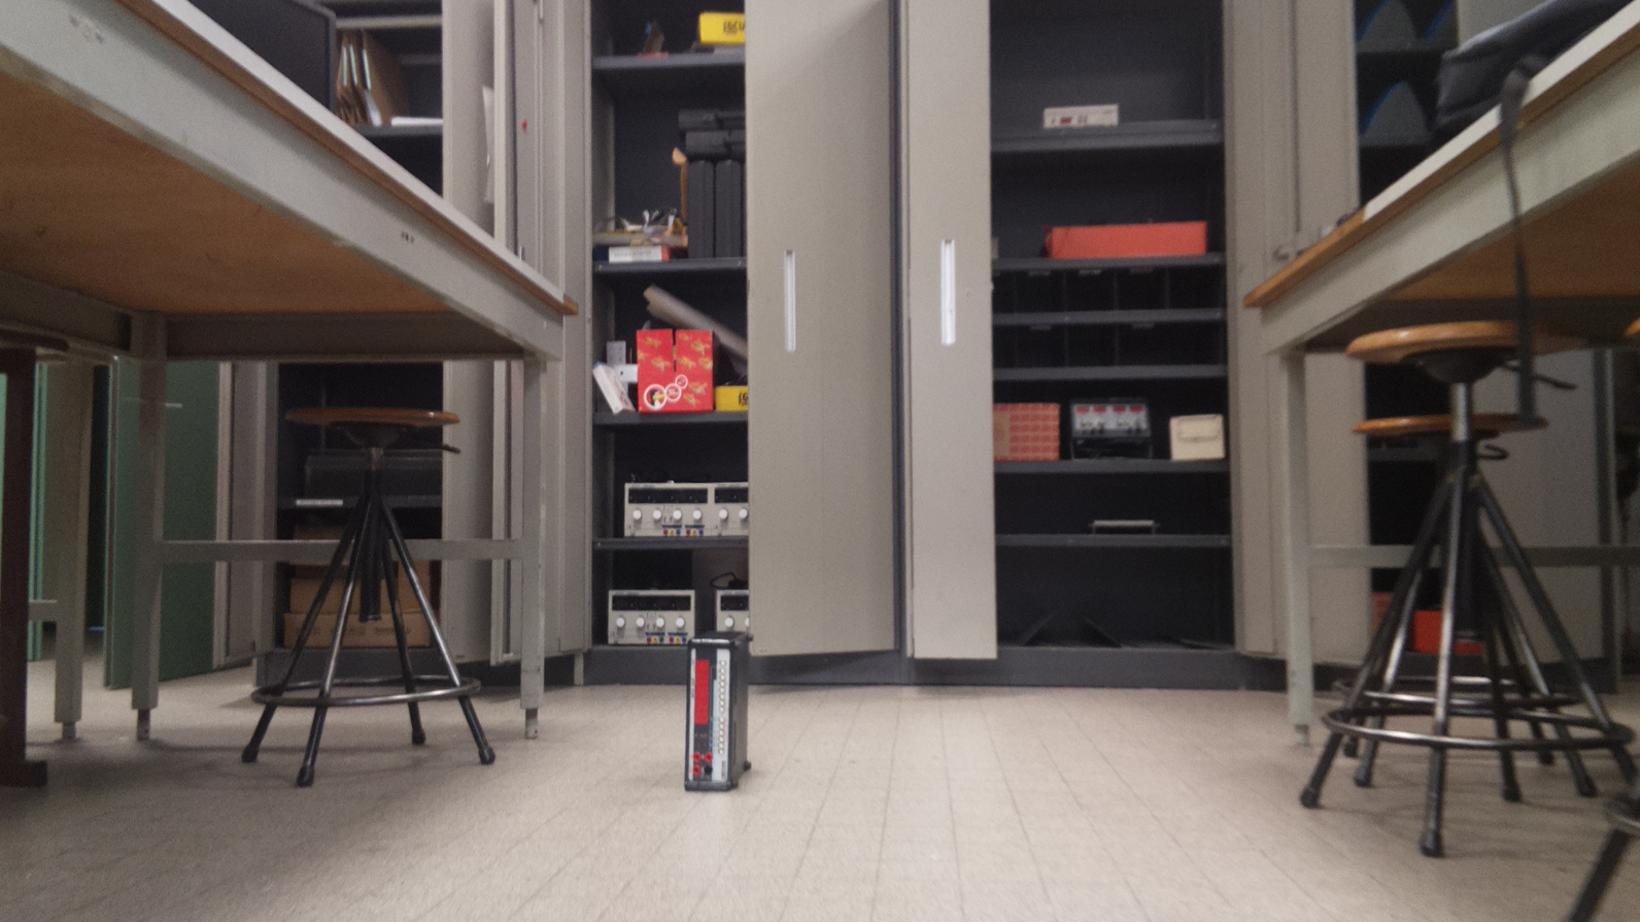medium: (680, 632, 751, 787)
